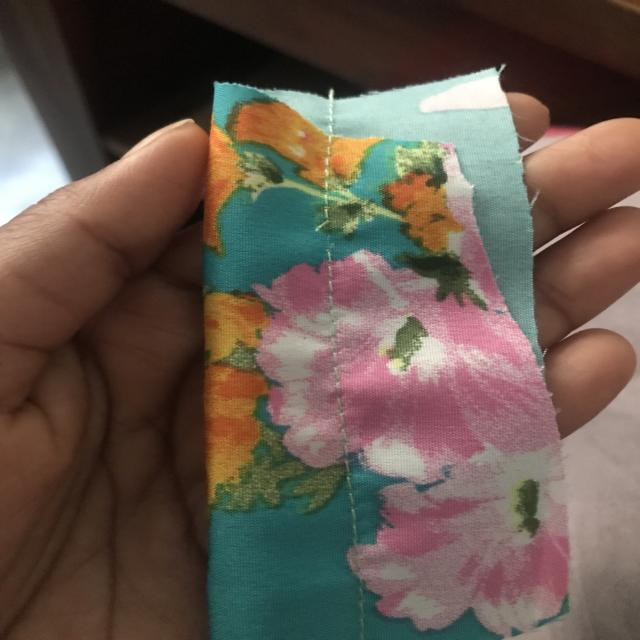broken: (303, 218, 350, 260)
